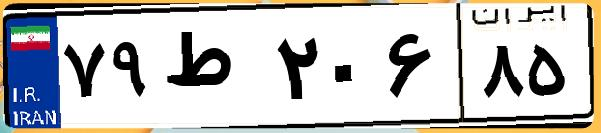0: (330, 28, 385, 110)
2: (270, 28, 330, 110)
5: (525, 38, 570, 115)
6: (385, 28, 445, 110)
7: (57, 26, 110, 100)
8: (475, 38, 525, 113)
9: (110, 28, 158, 98)
ط: (158, 20, 270, 120)
